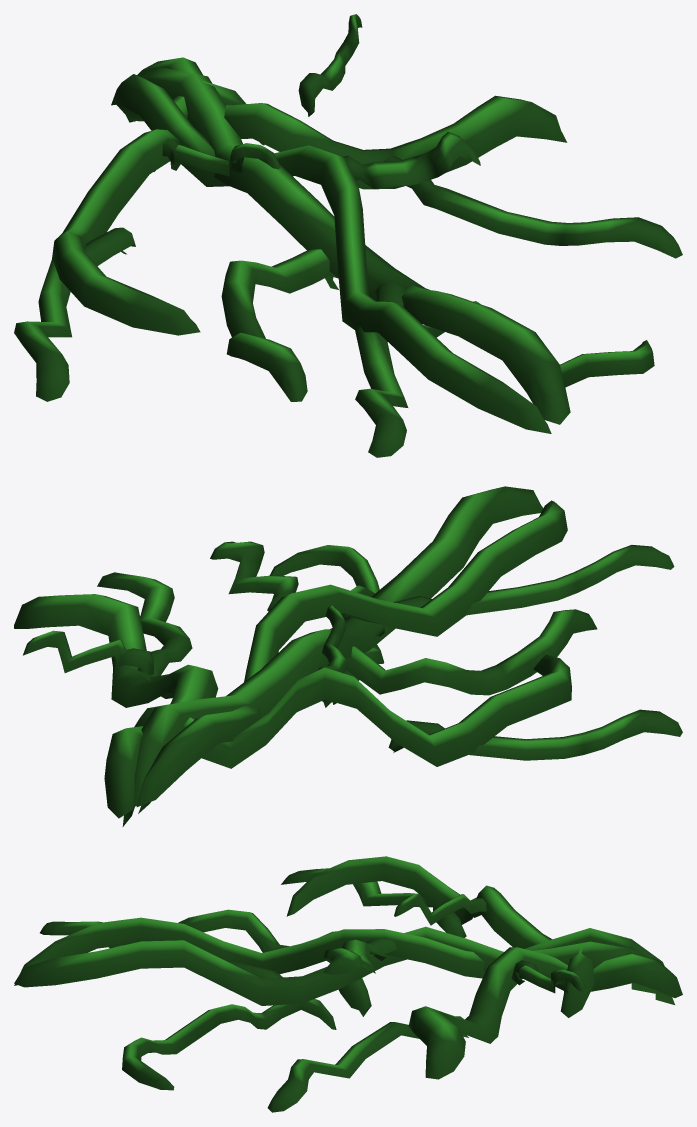
The model's file is vine7.fbx.
The picture shows the model from 3 angles, top to bottom: view 1: azimuth 30°, elevation 25°; view 2: azimuth 150°, elevation 25°; view 3: azimuth 270°, elevation 25°; orthographic projection. The views are drawn at different scales.
Visible parts, largest first — view 1: pCube157; view 2: pCube157; view 3: pCube157.
Part boxes in pixels (<box>): pCube157: <box>14,14,682,457</box>; pCube157: <box>14,486,682,826</box>; pCube157: <box>14,856,682,1112</box>.
Bounding box in the file's own units: 110 × 25.8 × 135.
